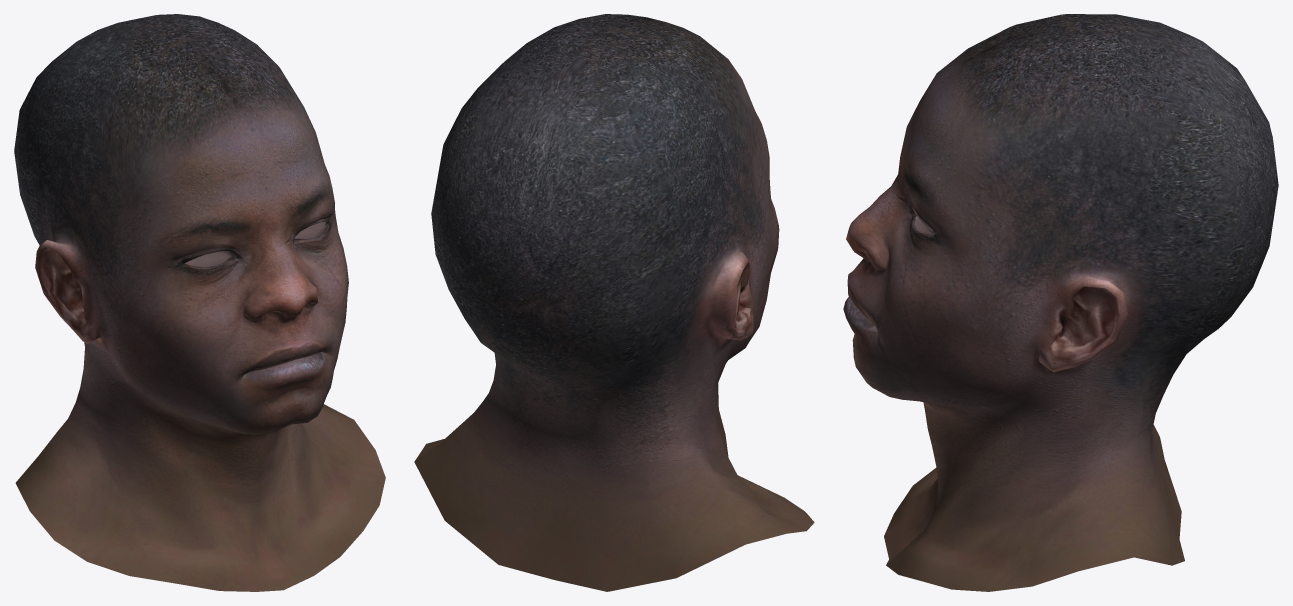
Rendered from head.glb.
The picture shows the model from 3 angles, left to right: view 1: azimuth 30°, elevation 25°; view 2: azimuth 150°, elevation 25°; view 3: azimuth 270°, elevation 25°; orthographic projection. The views are drawn at different scales.
Visible parts, largest first — view 1: head; view 2: head; view 3: head.
Part boxes in pixels (box(x1,y1,x2,y2)): head: box(14, 14, 385, 591); head: box(414, 14, 814, 591); head: box(843, 14, 1278, 591).
Size of the model in its own units: 2.46 by 3.5 by 2.63.
1 material, 1 textured.
